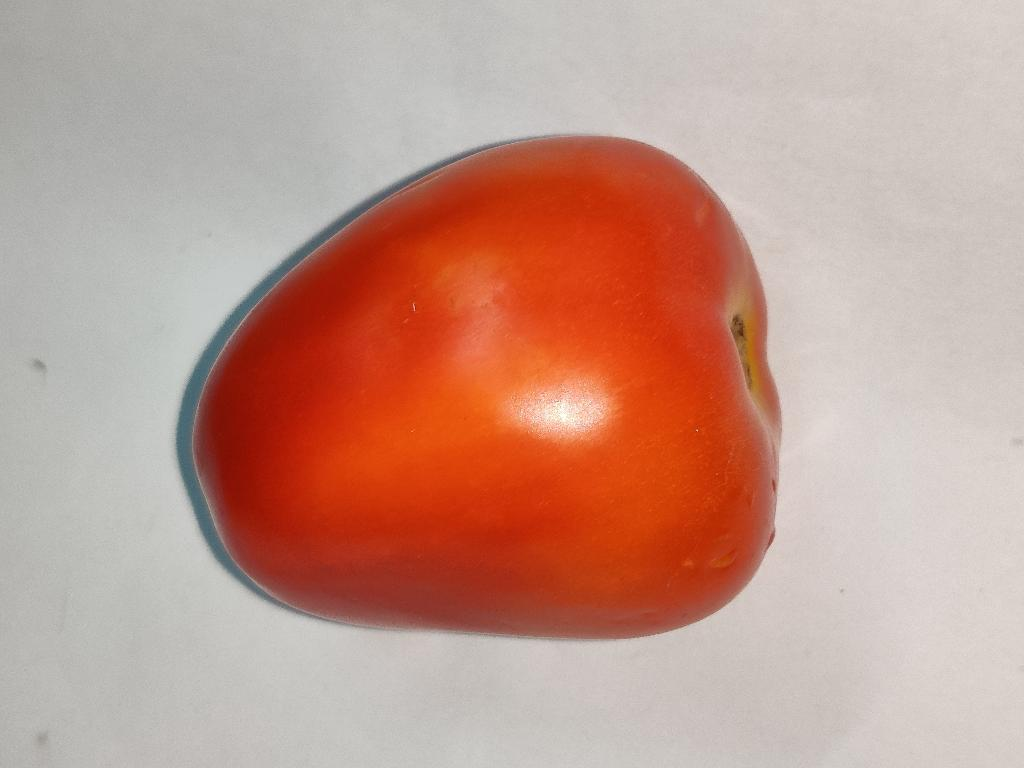tomato: (194, 137, 780, 637)
